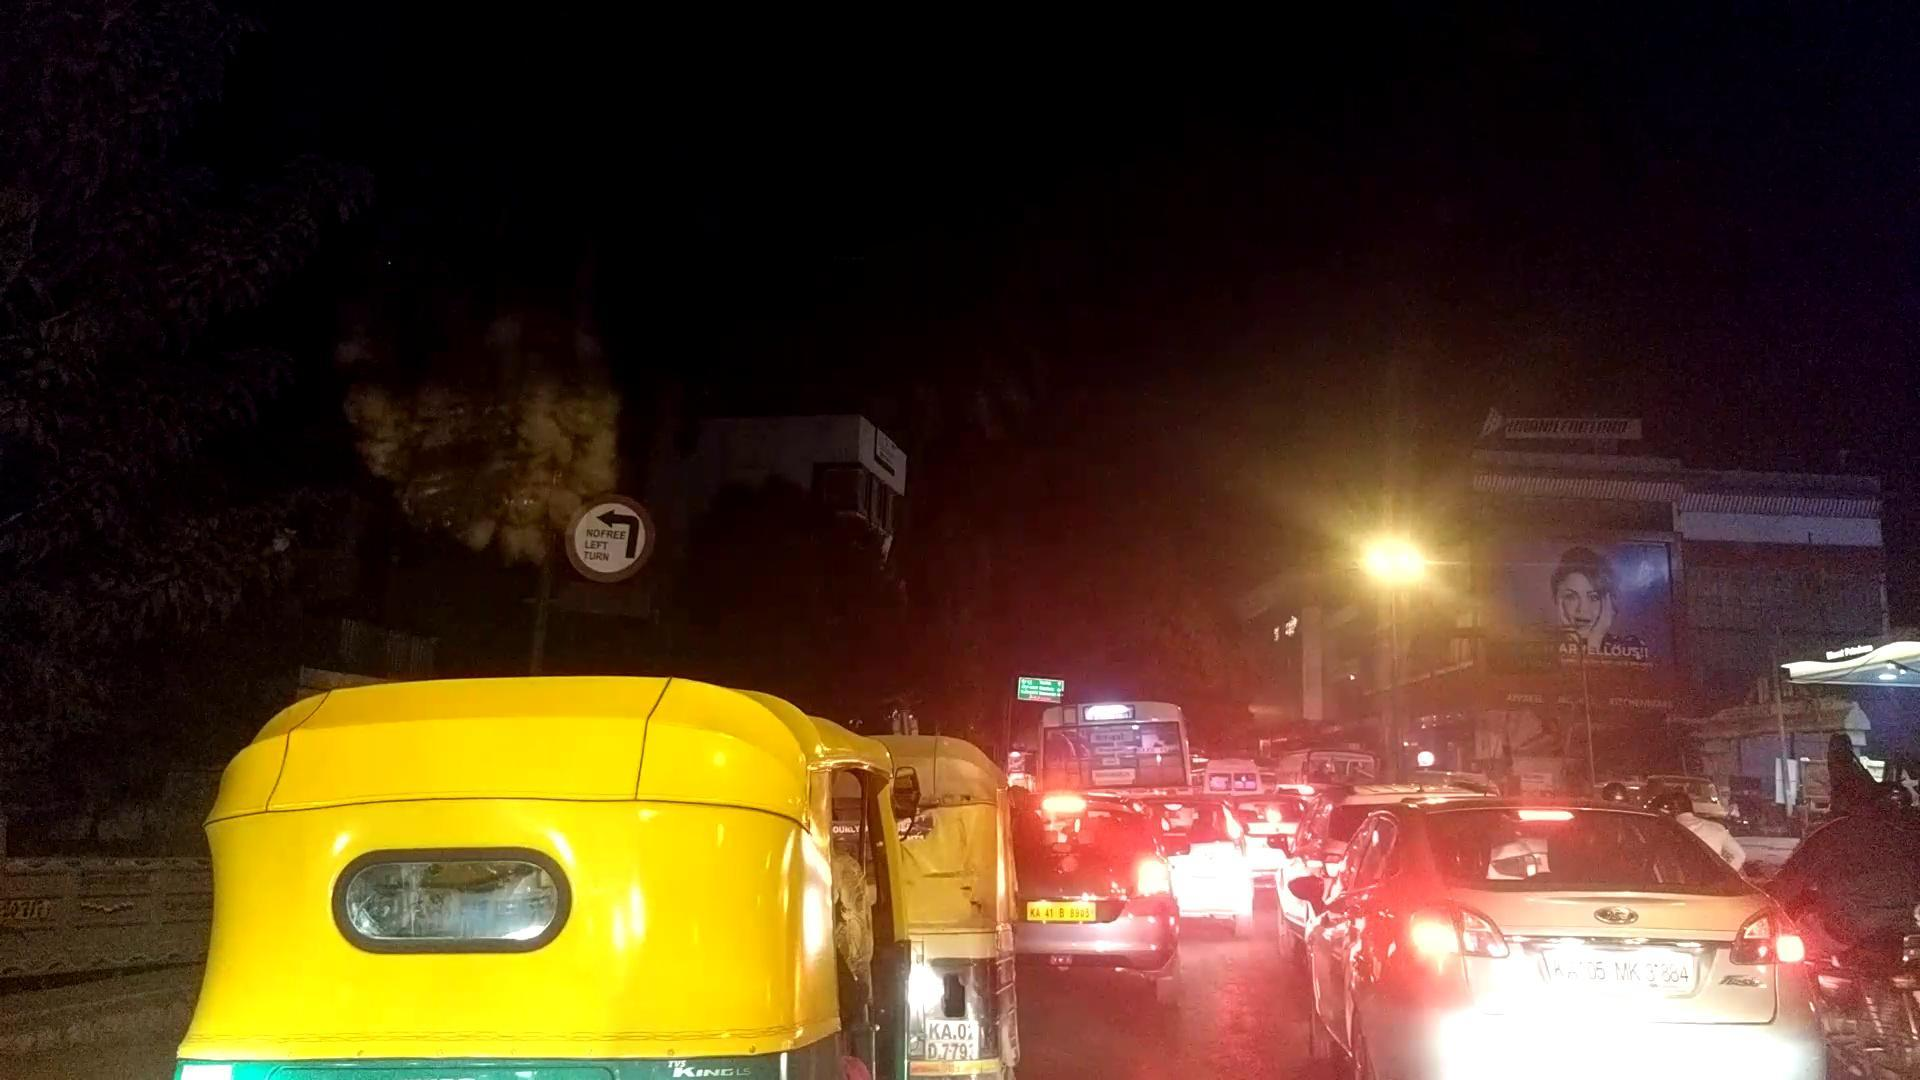on: (1110, 422, 1582, 738)
